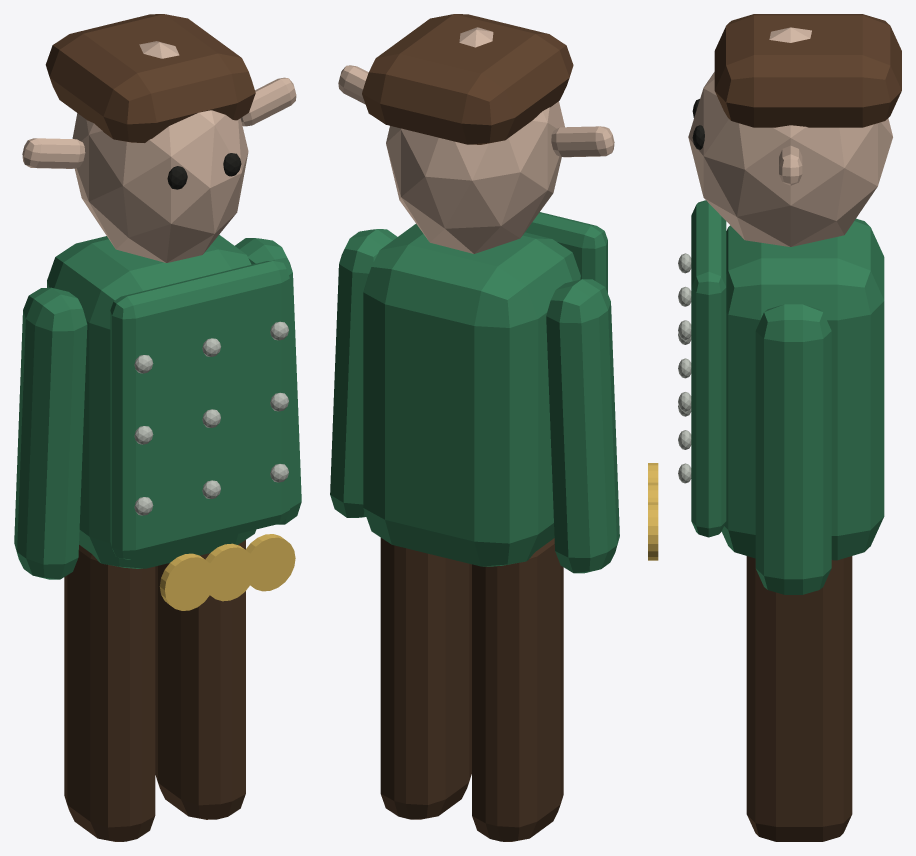
The model's file is rhune_4176.glb.
3 renders of one model, left to right at view 1: azimuth 30°, elevation 25°; view 2: azimuth 150°, elevation 25°; view 3: azimuth 270°, elevation 25°, orthographic.
Parts seen in each view (by area): view 1: Fitted leather jerkin, Booted leg, Booted leg.001, Head, Hair, Detailed arm, Fitted torso, Detailed arm.001, Coin, Coin.002, Coin.001, Pointed elven ear (+1 smaller); view 2: Fitted torso, Booted leg, Booted leg.001, Hair, Detailed arm, Head, Detailed arm.001, Fitted leather jerkin, Pointed elven ear, Pointed elven ear.001; view 3: Fitted torso, Booted leg.001, Detailed arm.001, Head, Hair, Fitted leather jerkin, Pointed elven ear.001, Coin.002.
Boxes of the visible parts, box(x1,y1,x2,y2) form: Fitted leather jerkin: box(110, 261, 289, 559); Booted leg: box(64, 545, 155, 841); Booted leg.001: box(155, 540, 245, 819); Head: box(72, 41, 248, 262); Hair: box(45, 14, 255, 142); Detailed arm: box(14, 287, 87, 579); Fitted torso: box(47, 234, 256, 568); Detailed arm.001: box(235, 238, 301, 524); Coin: box(159, 553, 214, 610); Coin.002: box(245, 534, 295, 591); Coin.001: box(205, 543, 255, 601); Pointed elven ear: box(22, 138, 85, 168); Fitted torso: box(363, 224, 580, 566); Booted leg: box(472, 538, 563, 841); Booted leg.001: box(380, 538, 471, 819); Hair: box(362, 14, 573, 144); Detailed arm: box(546, 279, 619, 573); Head: box(386, 27, 564, 253); Detailed arm.001: box(330, 229, 397, 517); Fitted leather jerkin: box(525, 212, 607, 292); Pointed elven ear: box(551, 126, 614, 157); Pointed elven ear.001: box(338, 65, 368, 104); Fitted torso: box(721, 218, 884, 560); Booted leg.001: box(746, 556, 852, 841); Detailed arm.001: box(755, 304, 831, 594); Head: box(688, 27, 892, 246); Hair: box(714, 14, 901, 127); Fitted leather jerkin: box(691, 200, 726, 537); Pointed elven ear.001: box(779, 145, 802, 185); Coin.002: box(648, 502, 658, 560).
Size of the model in its own units: 1.08 by 2.97 by 0.8675.
